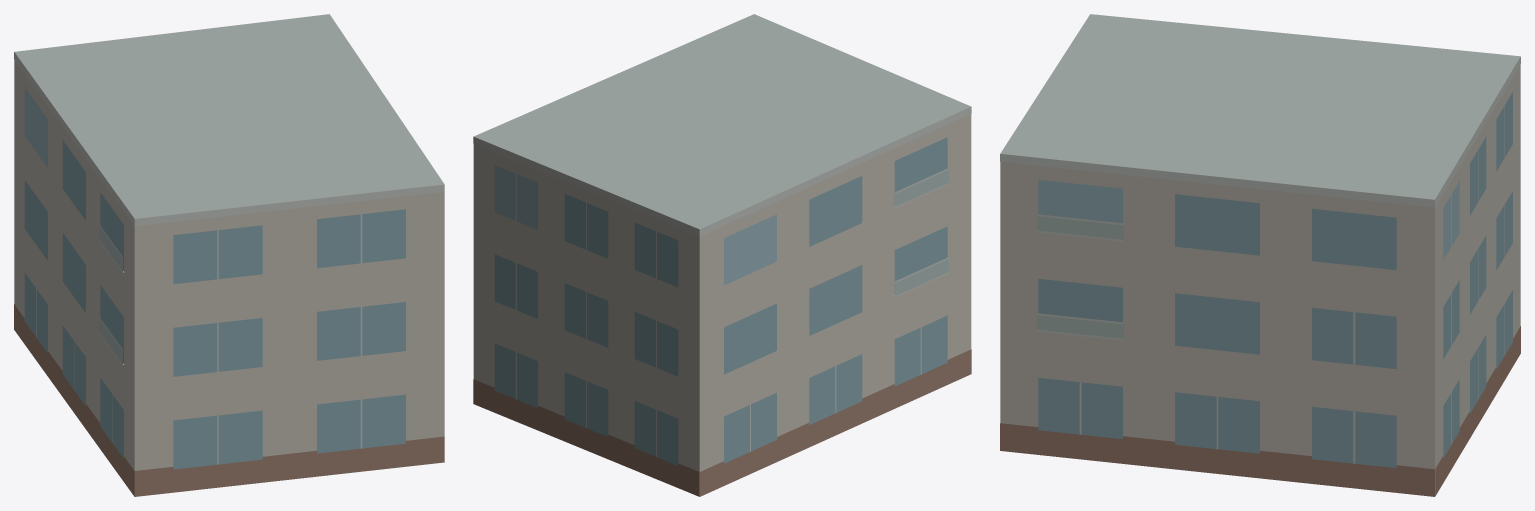
Rendered from survey-upis-32545951.glb.
The picture shows the model from 3 angles, left to right: view 1: azimuth 30°, elevation 25°; view 2: azimuth 150°, elevation 25°; view 3: azimuth 270°, elevation 25°; orthographic projection. The views are drawn at different scales.
Visible parts, largest first — view 1: survey-upis-32545951.tmp; view 2: survey-upis-32545951.tmp; view 3: survey-upis-32545951.tmp.
Boxes of the visible parts, x1,y1,x2,y2 form: survey-upis-32545951.tmp: (14, 14, 444, 496); survey-upis-32545951.tmp: (473, 14, 971, 496); survey-upis-32545951.tmp: (1000, 14, 1520, 496).
Size of the model in its own units: 12.28 by 9.15 by 14.54.
